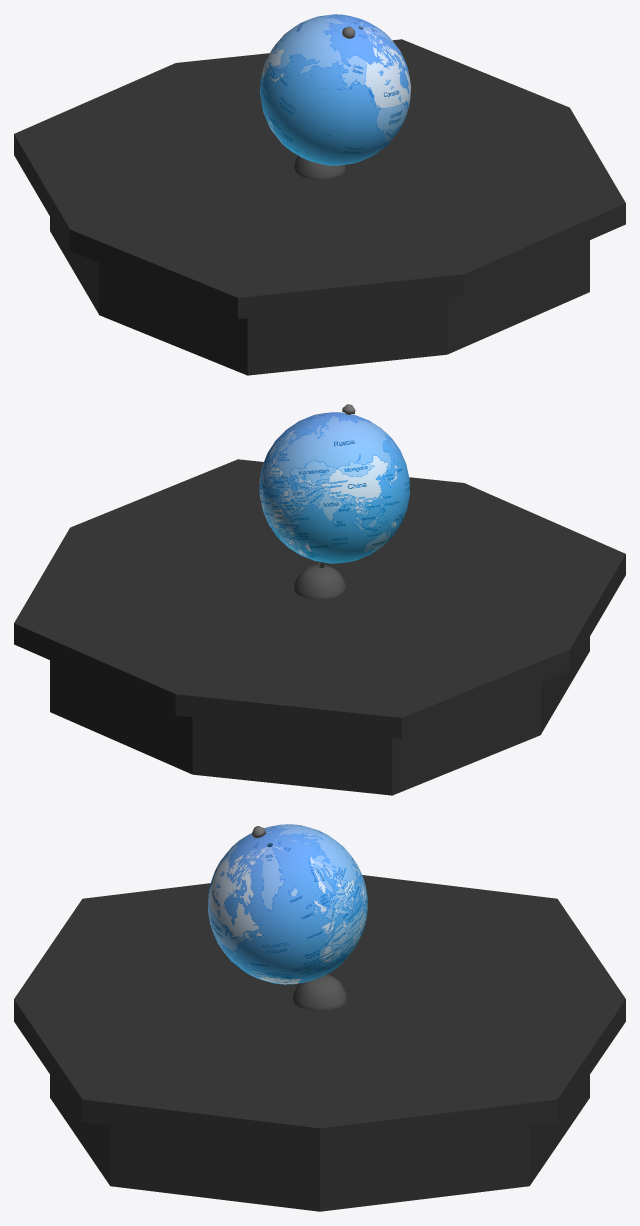
The model's file is world_map_globe.glb.
The picture shows the model from 3 angles, top to bottom: view 1: azimuth 30°, elevation 25°; view 2: azimuth 150°, elevation 25°; view 3: azimuth 270°, elevation 25°; orthographic projection. The views are drawn at different scales.
Visible parts, largest first — view 1: Cube.001, Sphere.001, Cube; view 2: Cube.001, Sphere.001, Cube; view 3: Cube.001, Sphere.001, Cube.
Part boxes in pixels (x1,y1,x2,y2): Cube.001: [14, 39, 625, 375]; Sphere.001: [260, 14, 411, 165]; Cube: [294, 155, 345, 179]; Cube.001: [14, 459, 625, 795]; Sphere.001: [259, 412, 409, 563]; Cube: [294, 564, 345, 599]; Cube.001: [14, 875, 625, 1211]; Sphere.001: [208, 824, 367, 984]; Cube: [292, 974, 347, 1010].
Size of the model in its own units: 4941 by 2414 by 4941.
Materials: 4 (1 with a texture image).
